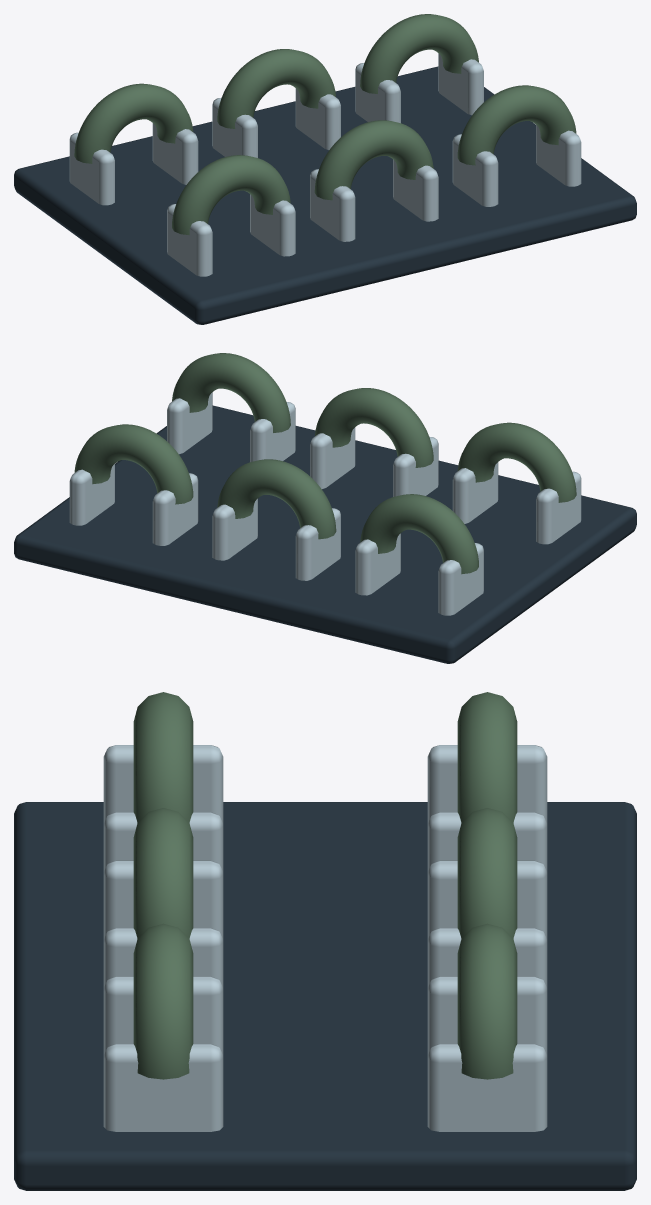
Rendered from assembly-nest.glb.
The picture shows the model from 3 angles, top to bottom: view 1: azimuth 30°, elevation 25°; view 2: azimuth 150°, elevation 25°; view 3: azimuth 270°, elevation 25°; orthographic projection. The views are drawn at different scales.
Parts seen in each view (by area): view 1: assembly-nest; view 2: assembly-nest; view 3: assembly-nest.
Part boxes in pixels (x1,y1,x2,y2): assembly-nest: (14, 14, 636, 324); assembly-nest: (14, 353, 636, 663); assembly-nest: (14, 692, 636, 1190).
Bounding box in the file's own units: 3.4 × 0.88 × 2.5.
